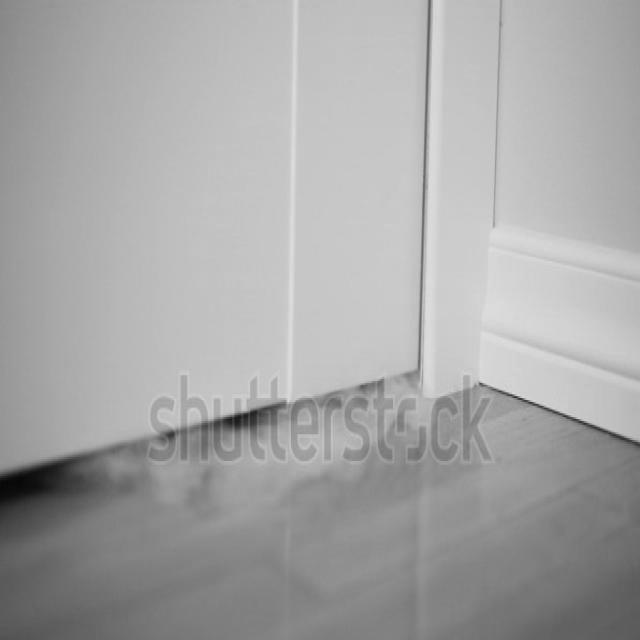fire: (40, 338, 469, 504)
